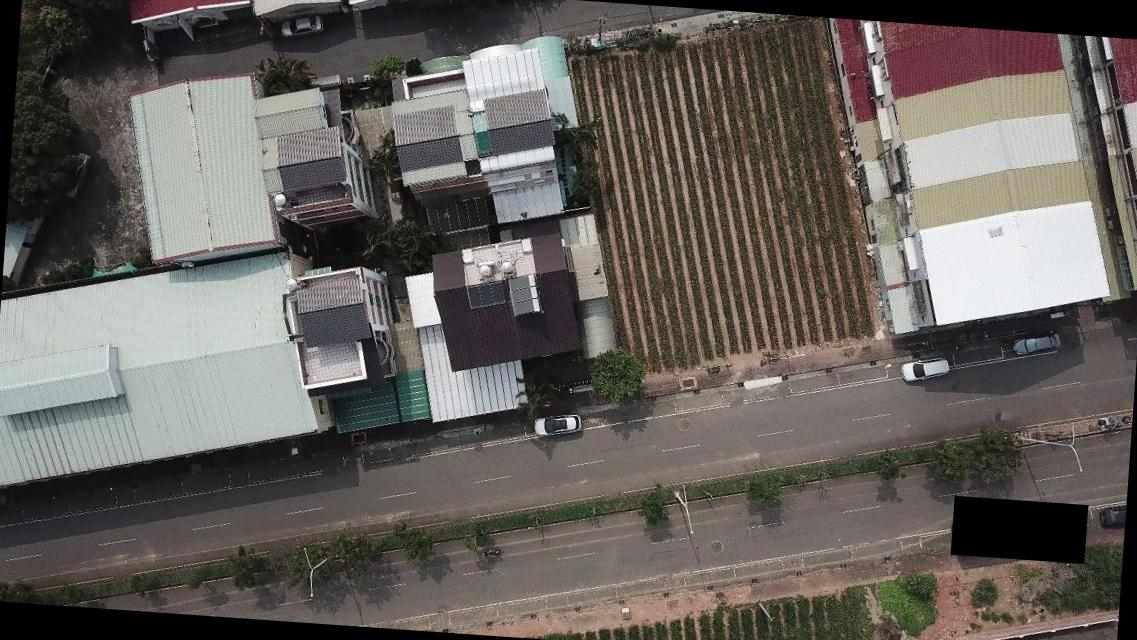vehicle: (899, 353, 954, 384), (532, 412, 583, 440), (1011, 330, 1062, 358), (278, 14, 325, 41), (1096, 503, 1126, 532)
